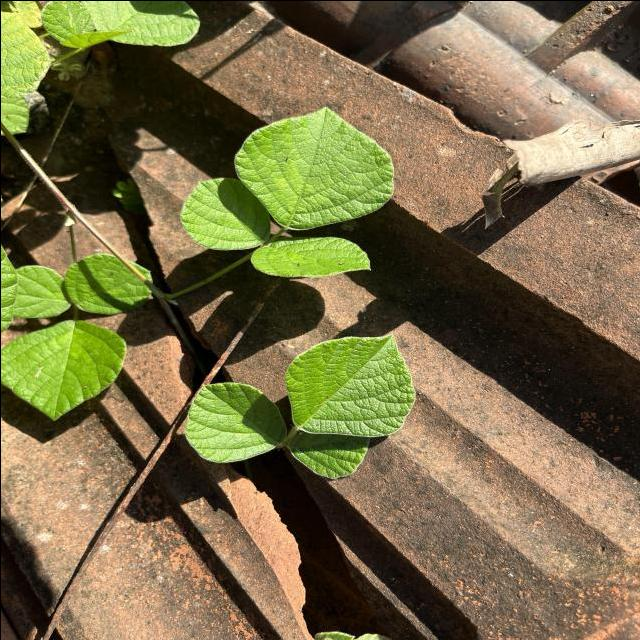Pseudarthria viscida: (177, 104, 399, 278), (181, 330, 417, 480), (0, 251, 158, 423)
